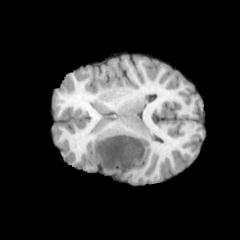glioma: (93, 134, 150, 170)
